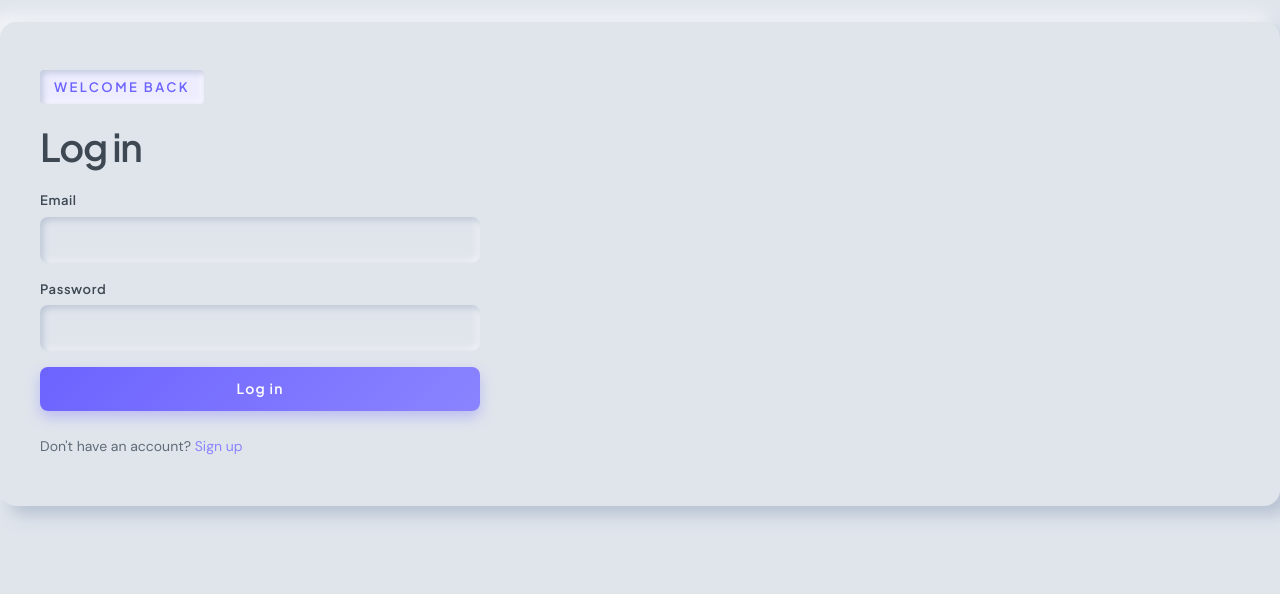
Scenario: auth screens › shows field-level errors for bad input
Click the button "Log in" at (260, 389), box [40,367,480,411]
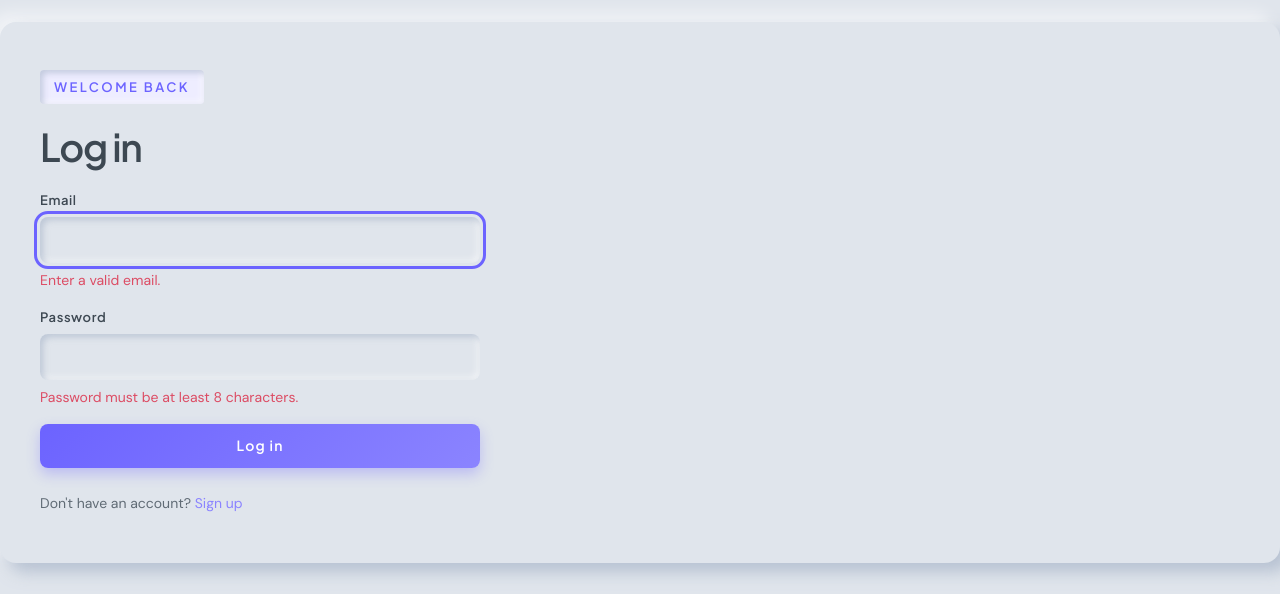
Now the text "Enter a valid email." is shown, box [40,271,160,289]
